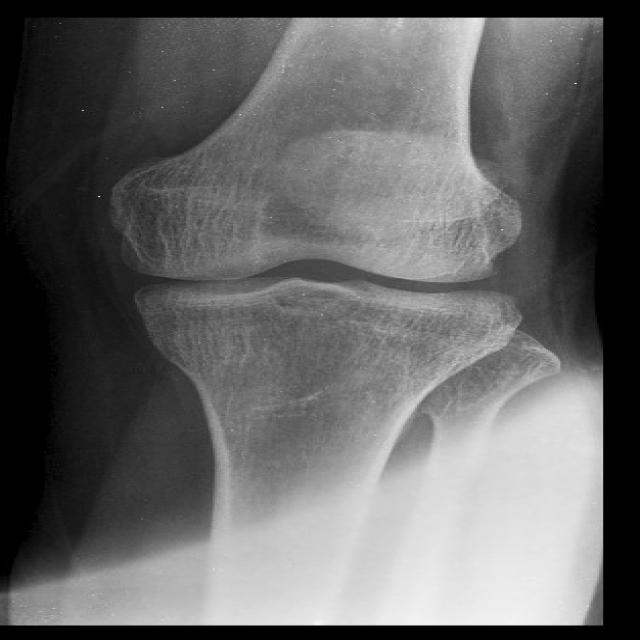osteo: (100, 154, 536, 361)
